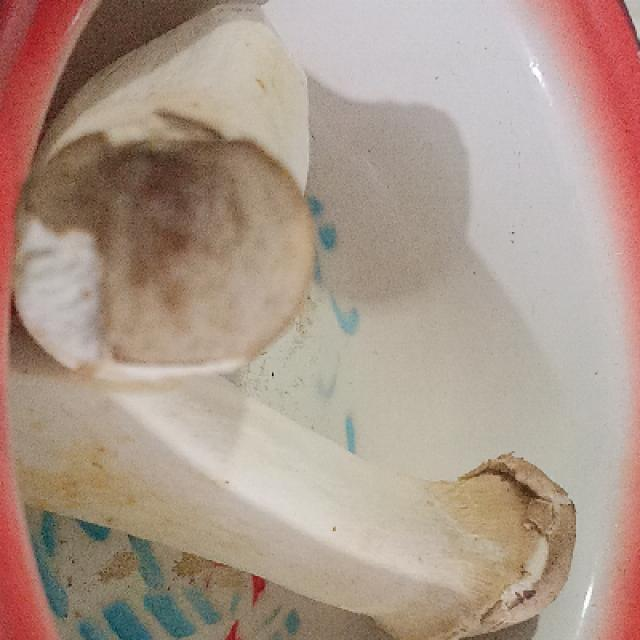Pleurotus eryngii: (8, 356, 578, 640), (7, 1, 316, 385)
